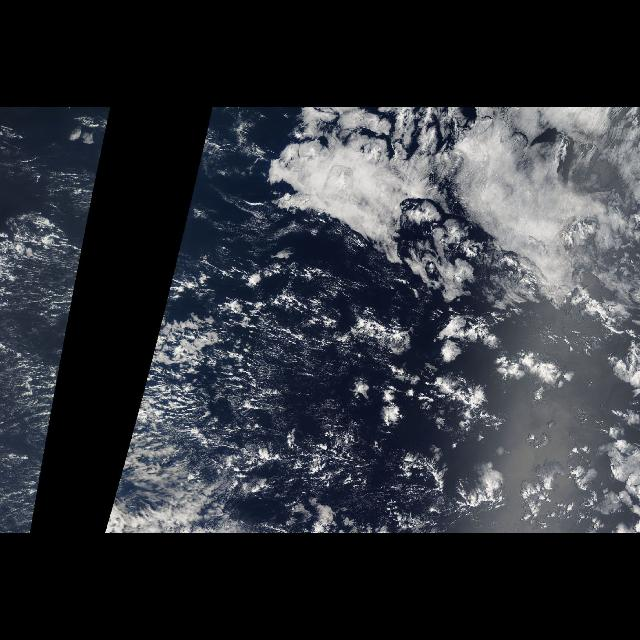Flower: (420, 312, 634, 526)
Sugar: (105, 195, 408, 530), (0, 126, 96, 530)
